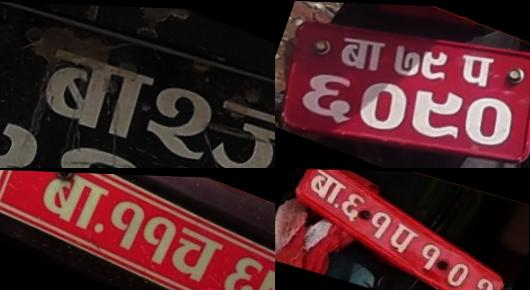0: (457, 86, 523, 155), (351, 73, 415, 139), (442, 257, 473, 290)
1: (98, 190, 151, 257), (132, 204, 182, 268), (410, 238, 447, 276), (363, 206, 398, 240)
2: (134, 69, 225, 168), (468, 271, 501, 290)
4: (0, 95, 53, 168)
6: (290, 58, 365, 130), (32, 127, 160, 168), (215, 244, 267, 290), (336, 188, 371, 223)
7: (385, 39, 425, 81)
9: (402, 77, 472, 146), (415, 42, 454, 86), (247, 253, 275, 290)
ba: (31, 37, 155, 147), (33, 170, 114, 239), (334, 25, 390, 78), (300, 168, 352, 209)
cha: (161, 218, 228, 290)
ja: (199, 90, 275, 168)
pa: (453, 44, 501, 92), (384, 220, 425, 258)
